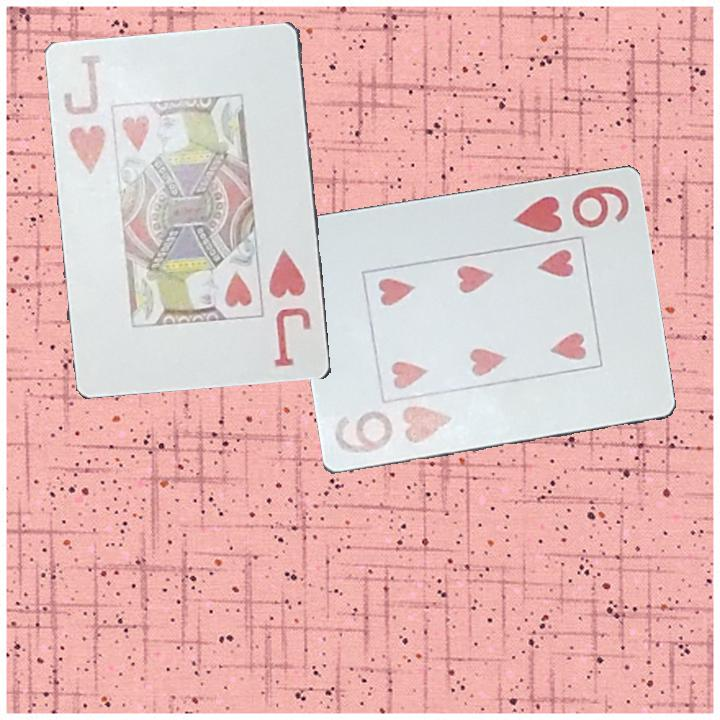6h: (330, 402, 457, 460), (509, 182, 632, 237)
Jh: (60, 51, 109, 177), (265, 246, 314, 370)
